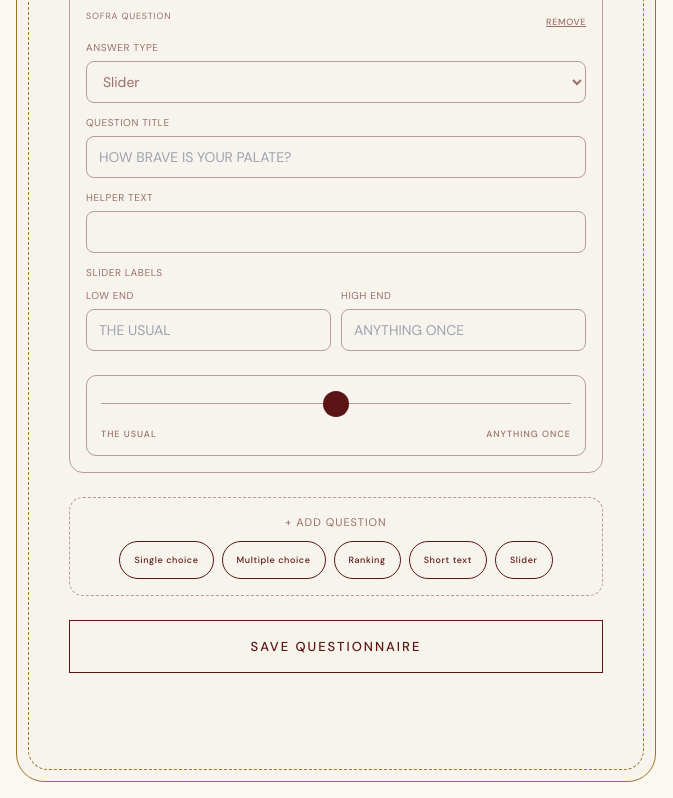
Scenario: blocks save and shows an error for a custom question with a blank option
(page scrolled)
Expected: the text "+ ADD QUESTION" is shown, [285,515,387,529]
Click the button "Single choice" at (166, 560), box [120,540,214,578]
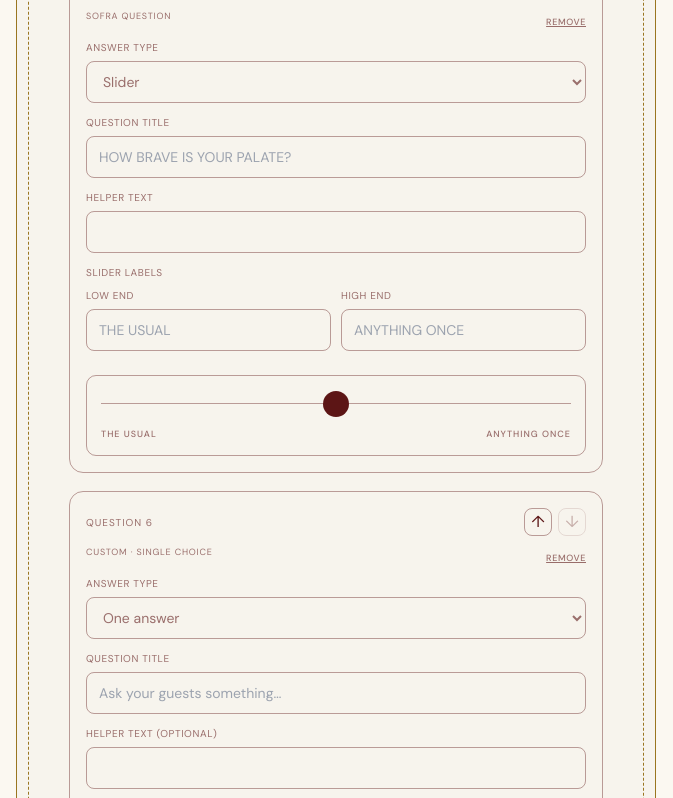
Type "Pick one" into the field with placeholder "Ask your guests something…" below "Custom ·" at (336, 692), box [86,672,586,714]
(page scrolled)
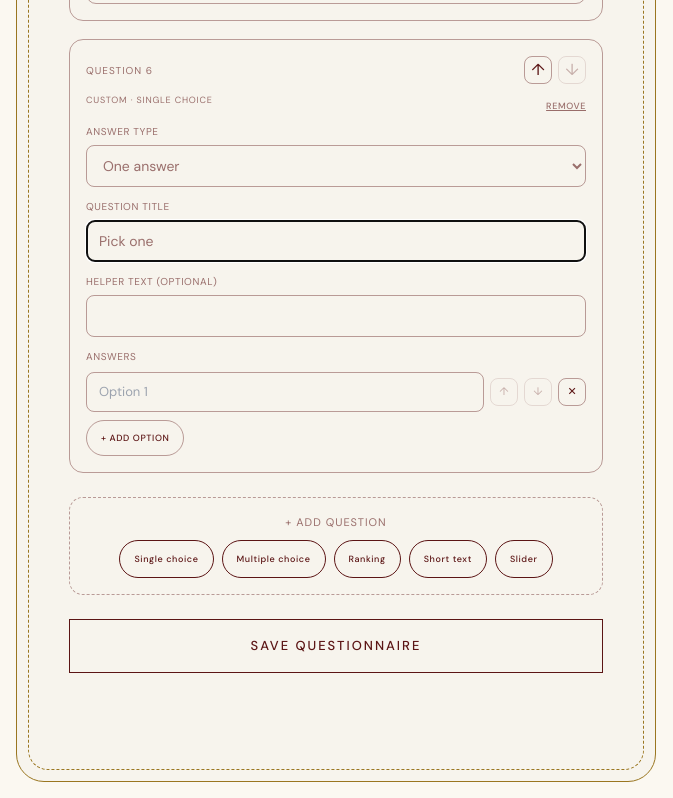
Click the button "SAVE QUESTIONNAIRE" at (336, 646), box [69,619,603,672]
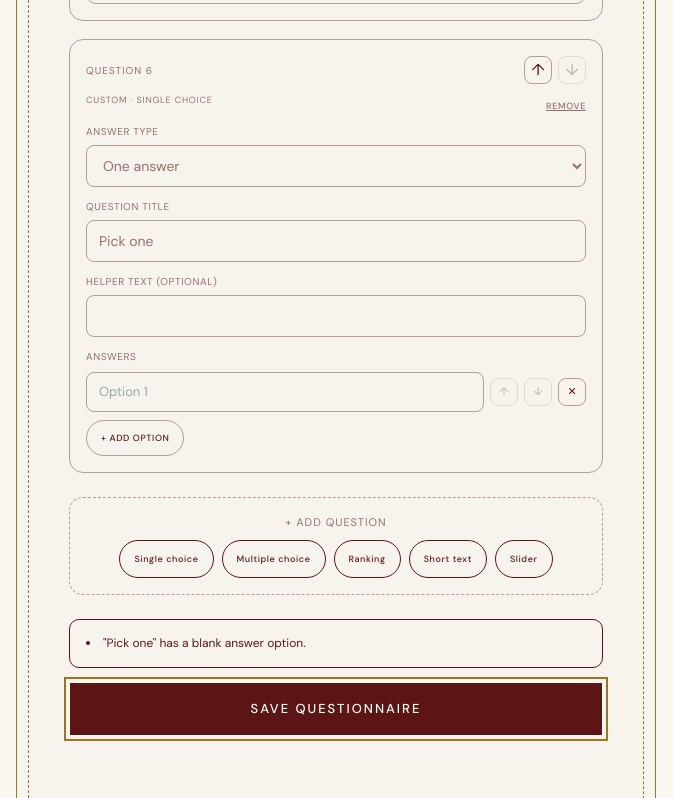
Result: the message shows "blank answer option" at [103,635,306,651]
